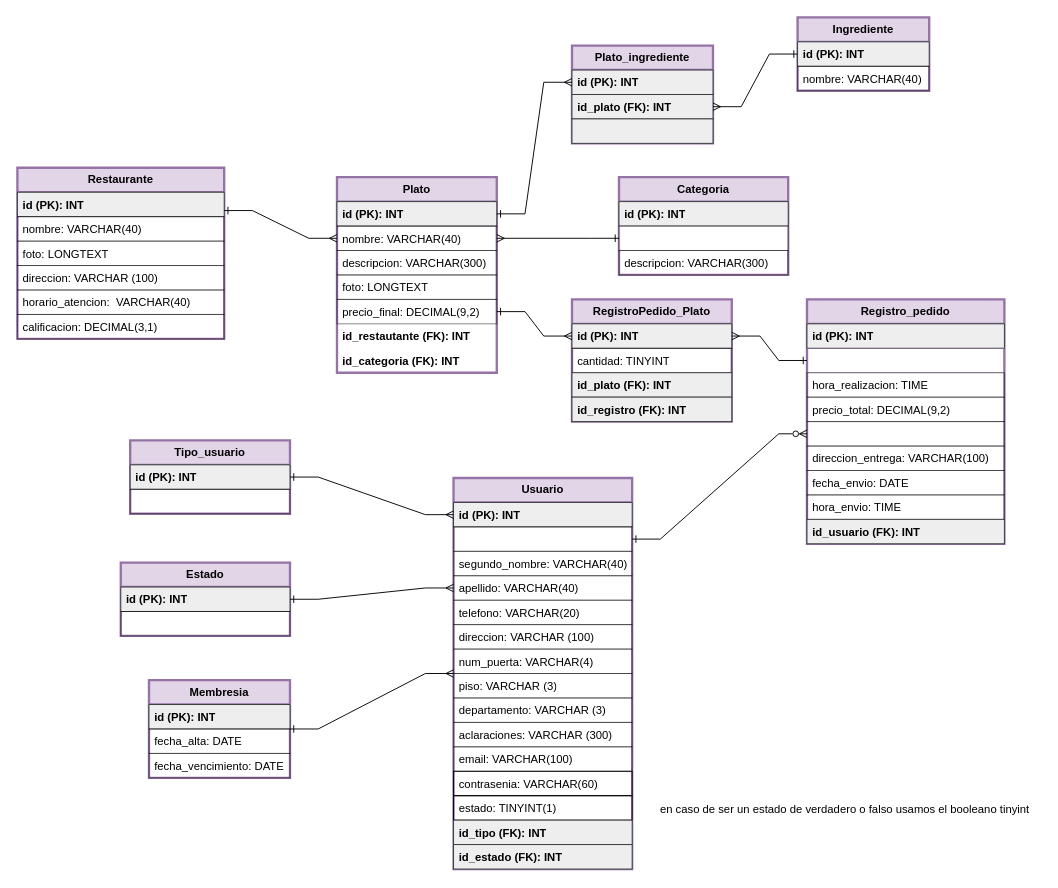
This 1058x888 diagram has some shape labels left out. The shapes that lost their labels are listed below. From the top down, each one's centre as x and y in pixels, then its label:
At pixel 642 130: "id_ingrediente (FK): INT".
At pixel 703 238: "nombre_cat: VARCHAR(20)".
At pixel 905 360: "fecha_realizacion: DATE".
At pixel 905 433: "aclaraciones: VARCHAR(300)".
At pixel 209 501: "nombre_tipo: VARCHAR(11)".
At pixel 542 538: "primer_nombre: VARCHAR(40)".
At pixel 205 623: "nombre_estado: VARCHAR(30)".
